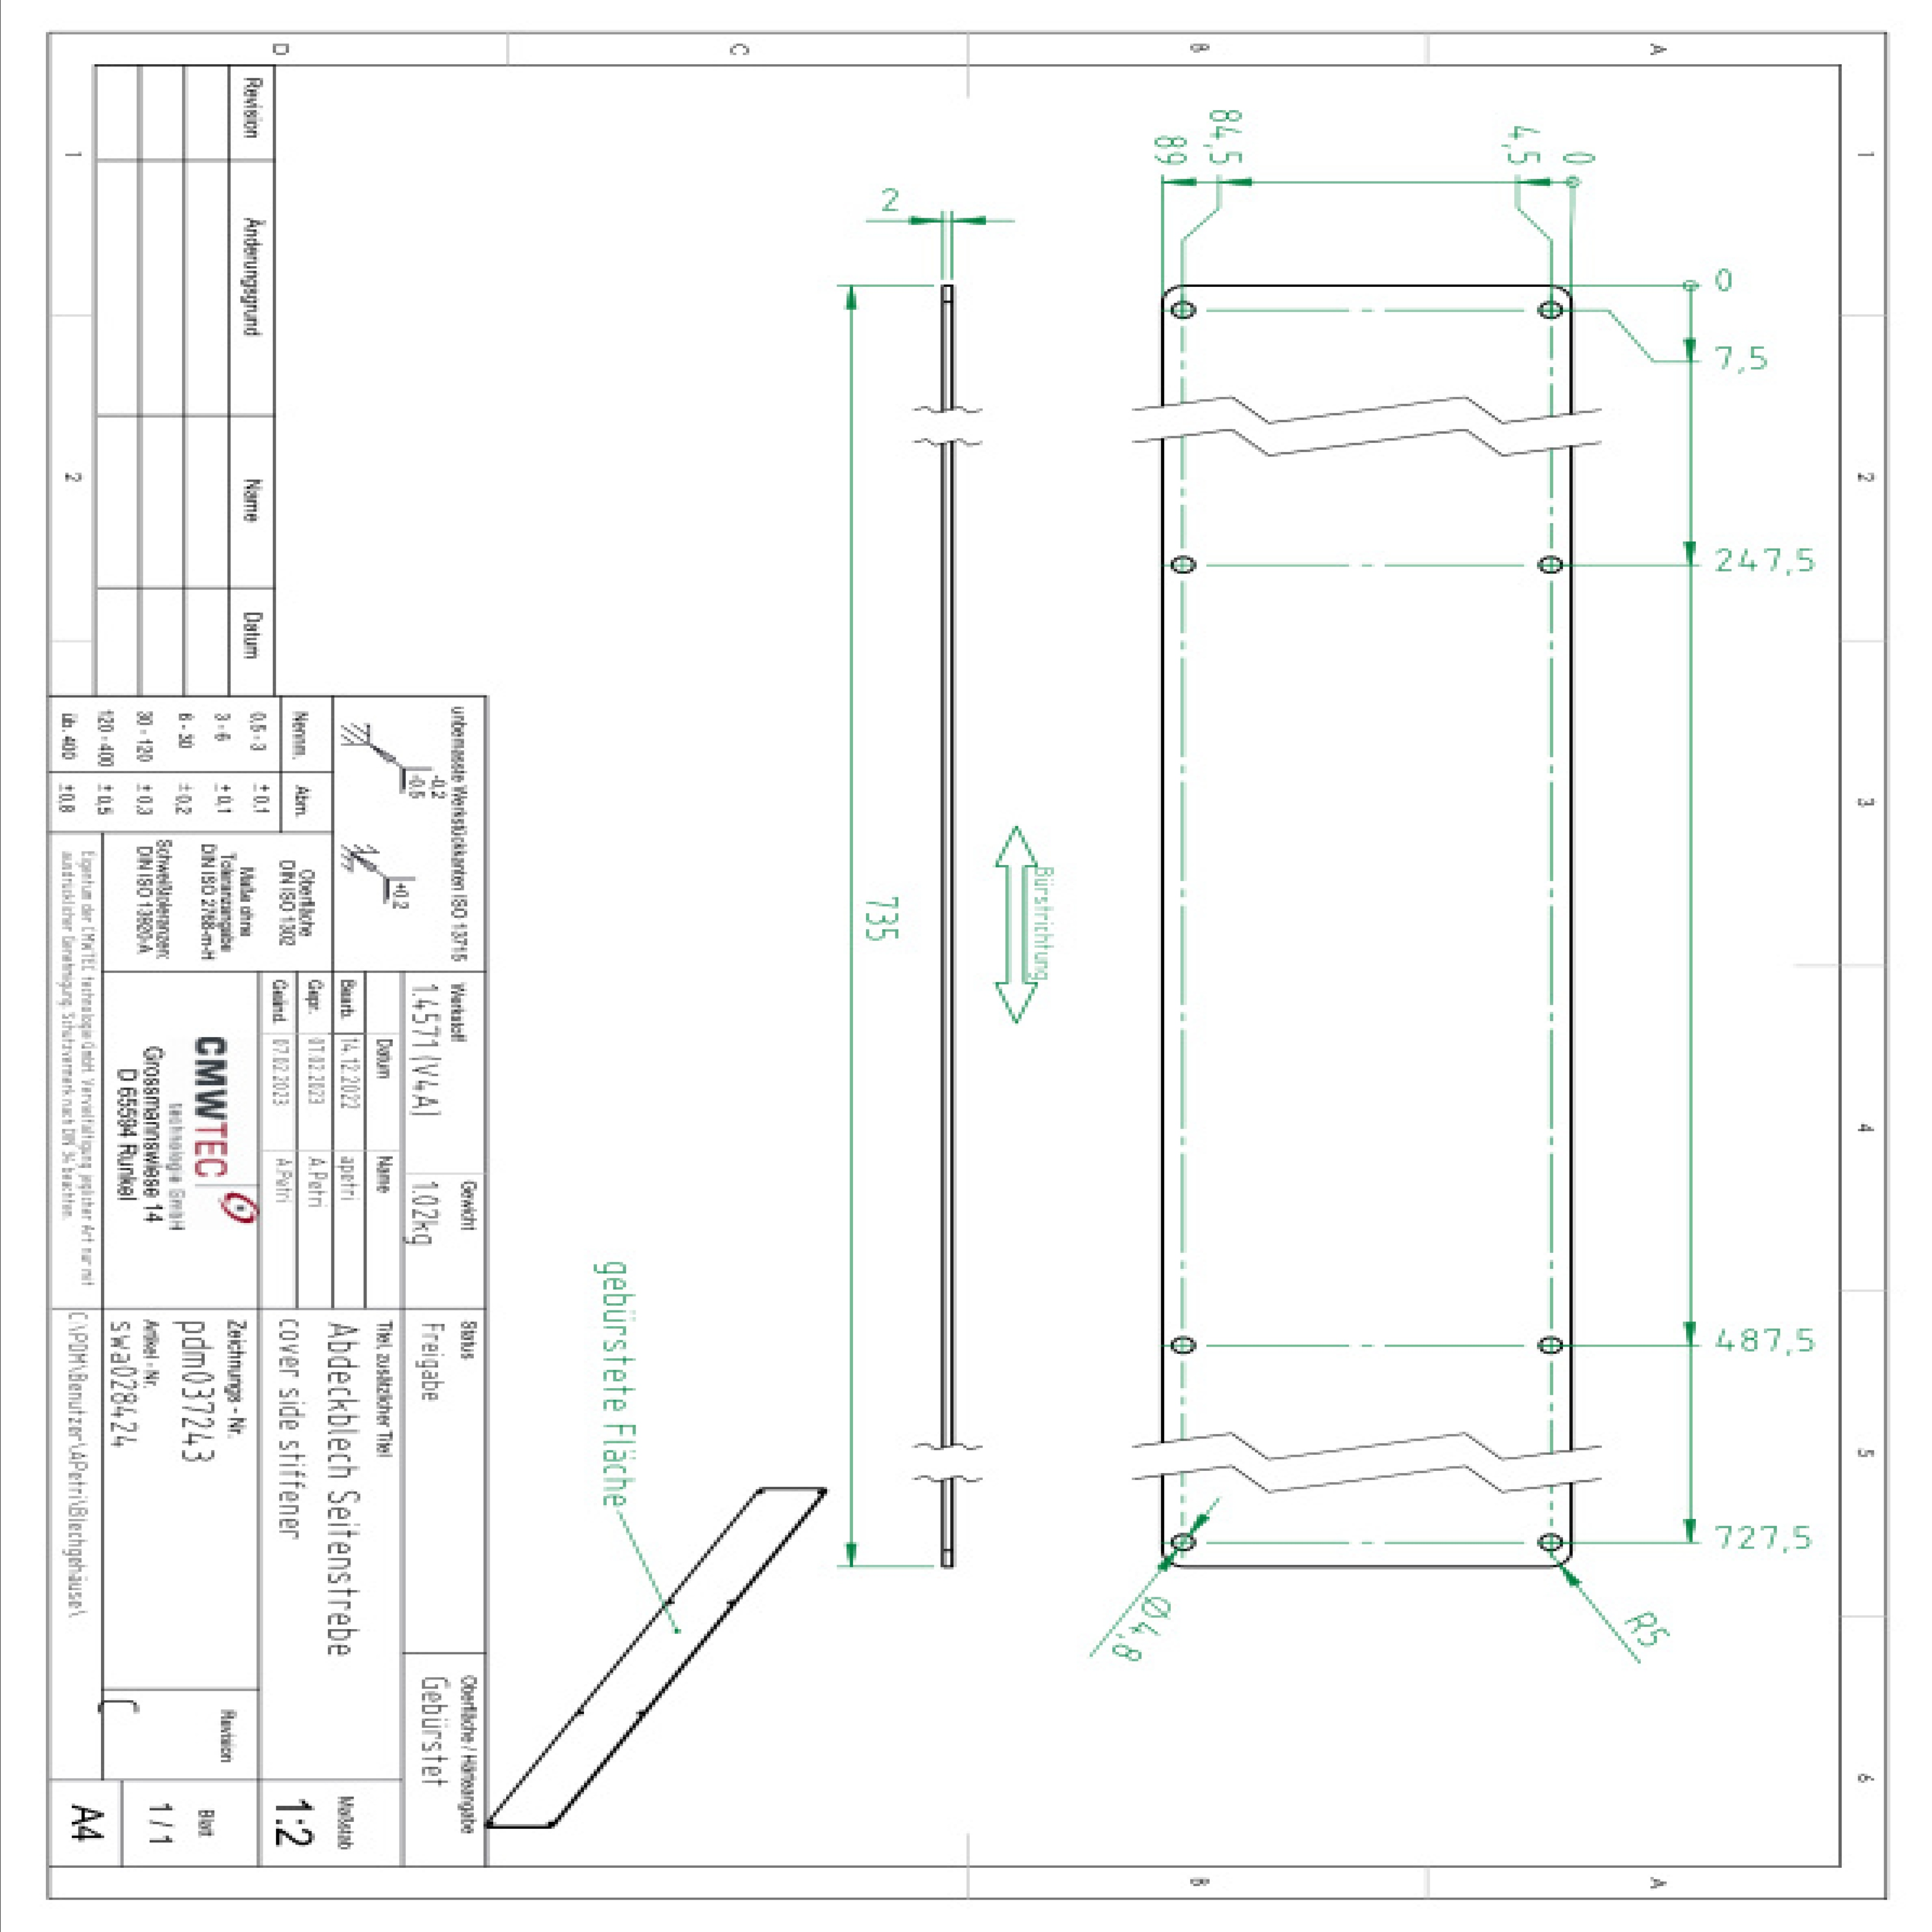InnerContour: (1536, 547, 1562, 579), (1169, 1530, 1198, 1557), (1168, 552, 1200, 575), (1166, 1334, 1196, 1357), (1166, 299, 1198, 320), (1536, 1530, 1564, 1553), (1537, 295, 1560, 322), (1537, 1334, 1562, 1357)
